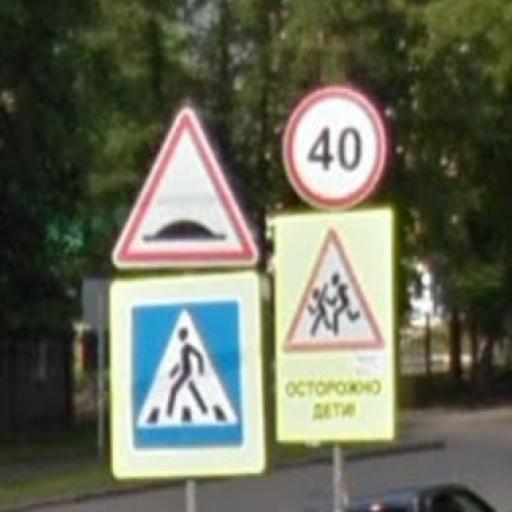traffic_sign: (106, 274, 271, 485), (111, 109, 262, 271), (281, 88, 388, 212), (283, 229, 384, 354)
